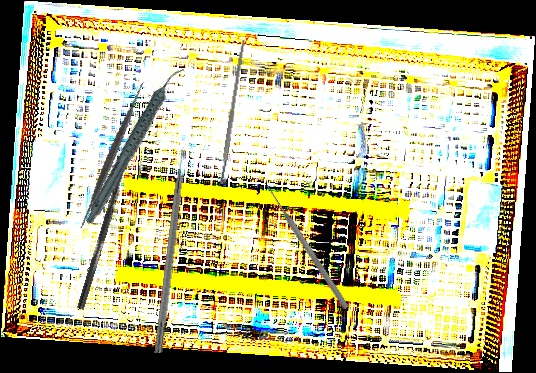Handpiece: (57, 64, 213, 227)
Hook Surgical: (154, 146, 190, 354)
Pusher: (263, 182, 351, 311)
Scalpel Handle: (217, 39, 247, 185)
Spatula Surgical: (38, 79, 187, 231)
Surgical Spoon: (76, 135, 138, 311)
